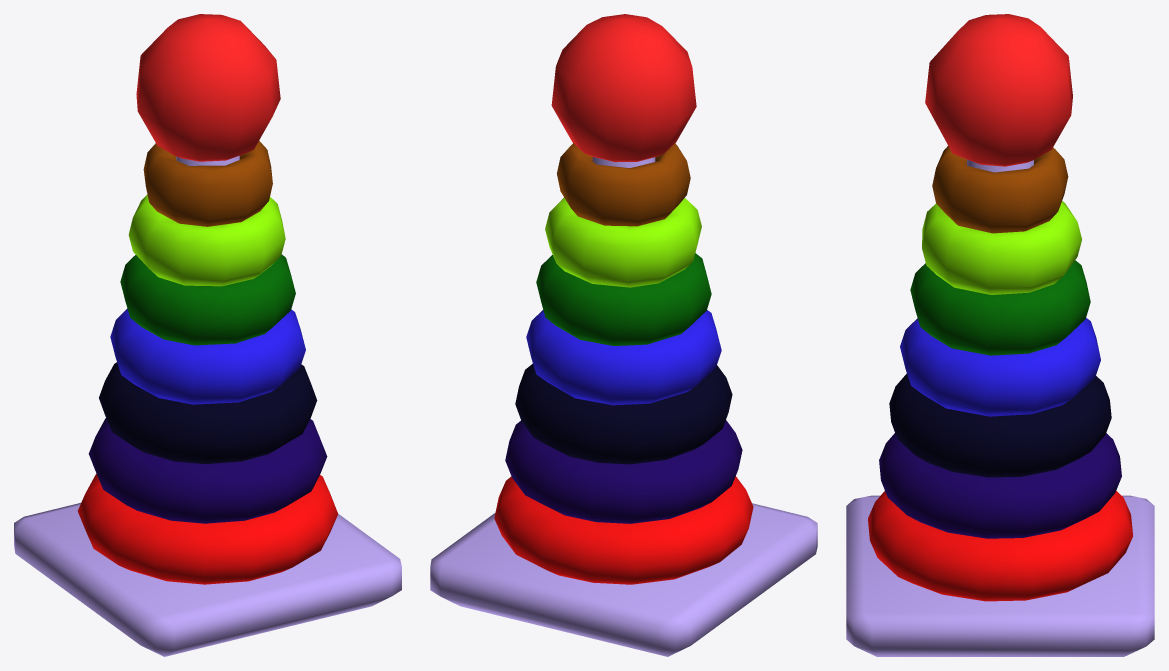
Rendered from SM_PyramidRings01.FBX.
The picture shows the model from 3 angles, left to right: view 1: azimuth 30°, elevation 25°; view 2: azimuth 150°, elevation 25°; view 3: azimuth 270°, elevation 25°; orthographic projection. The views are drawn at different scales.
Visible parts, largest first — view 1: SM_PyramidRings01_1, SM_PyramidRings01_9, SM_PyramidRings01_2, SM_PyramidRings01_3, SM_PyramidRings01_4, SM_PyramidRings01_5, SM_PyramidRings01_6, SM_PyramidRings01_7, SM_PyramidRings01_8; view 2: SM_PyramidRings01_1, SM_PyramidRings01_9, SM_PyramidRings01_2, SM_PyramidRings01_3, SM_PyramidRings01_4, SM_PyramidRings01_5, SM_PyramidRings01_6, SM_PyramidRings01_7, SM_PyramidRings01_8; view 3: SM_PyramidRings01_1, SM_PyramidRings01_9, SM_PyramidRings01_2, SM_PyramidRings01_3, SM_PyramidRings01_4, SM_PyramidRings01_5, SM_PyramidRings01_6, SM_PyramidRings01_7, SM_PyramidRings01_8.
Part boxes in pixels (x1,y1,x2,y2): SM_PyramidRings01_1: (14, 156, 401, 656); SM_PyramidRings01_9: (136, 14, 280, 161); SM_PyramidRings01_2: (77, 473, 337, 584); SM_PyramidRings01_3: (88, 418, 327, 523); SM_PyramidRings01_4: (99, 362, 317, 464); SM_PyramidRings01_5: (110, 308, 305, 404); SM_PyramidRings01_6: (120, 254, 295, 345); SM_PyramidRings01_7: (128, 194, 285, 286); SM_PyramidRings01_8: (143, 140, 272, 226); SM_PyramidRings01_1: (430, 157, 817, 656); SM_PyramidRings01_9: (551, 14, 696, 162); SM_PyramidRings01_2: (494, 476, 753, 584); SM_PyramidRings01_3: (505, 420, 742, 523); SM_PyramidRings01_4: (515, 363, 732, 464); SM_PyramidRings01_5: (526, 310, 721, 405); SM_PyramidRings01_6: (536, 253, 711, 345); SM_PyramidRings01_7: (545, 197, 701, 287); SM_PyramidRings01_8: (557, 143, 690, 226); SM_PyramidRings01_1: (846, 159, 1154, 656); SM_PyramidRings01_9: (925, 14, 1072, 166); SM_PyramidRings01_2: (868, 491, 1132, 601); SM_PyramidRings01_3: (879, 433, 1121, 538); SM_PyramidRings01_4: (889, 373, 1111, 477); SM_PyramidRings01_5: (900, 318, 1100, 416); SM_PyramidRings01_6: (910, 260, 1090, 355); SM_PyramidRings01_7: (922, 201, 1081, 294); SM_PyramidRings01_8: (932, 146, 1068, 233).
Bounding box in the file's own units: 19.25 × 40.27 × 19.25.
